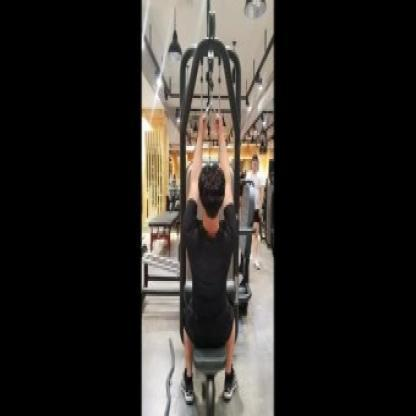Lat Pull Down: (159, 0, 250, 416)
